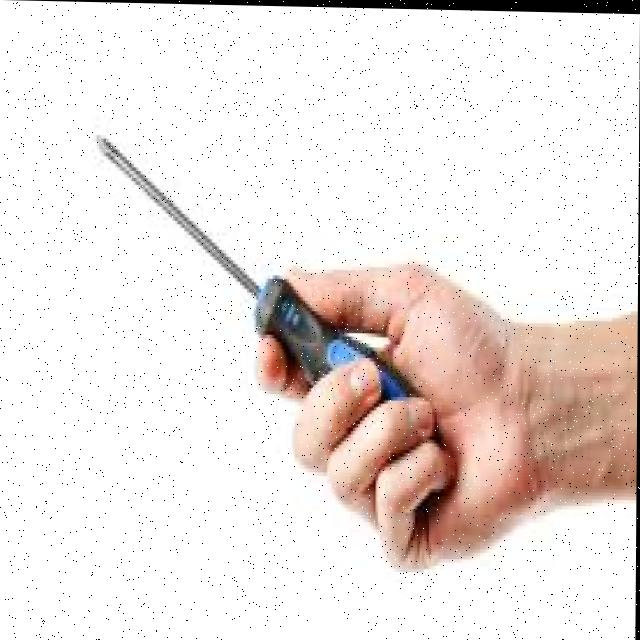Screwdriver: (96, 132, 446, 494)
